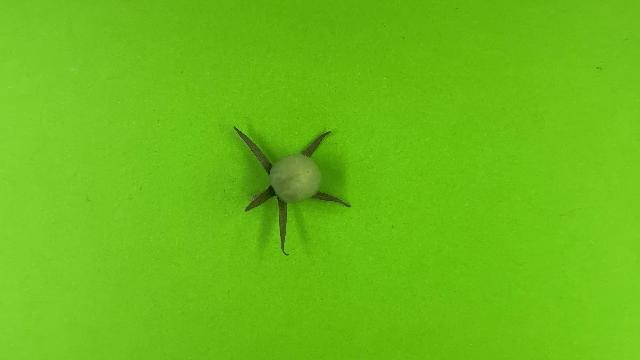Fruit Maturation: (268, 153, 323, 204)
